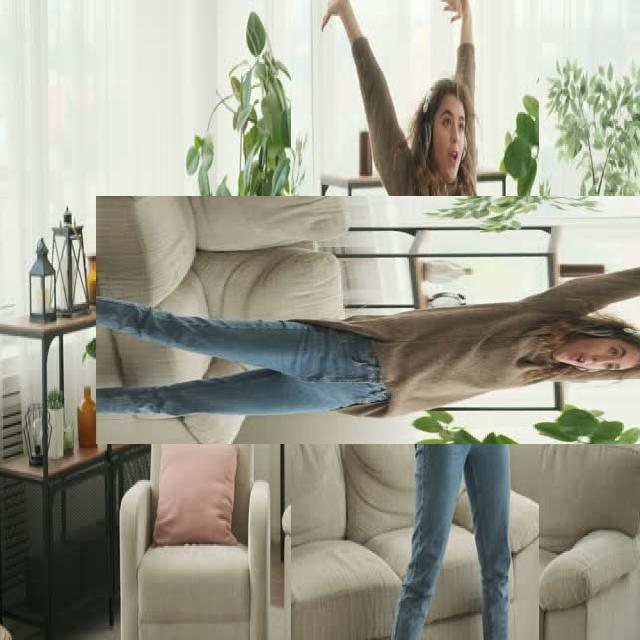NotFall: (112, 246, 640, 506)
